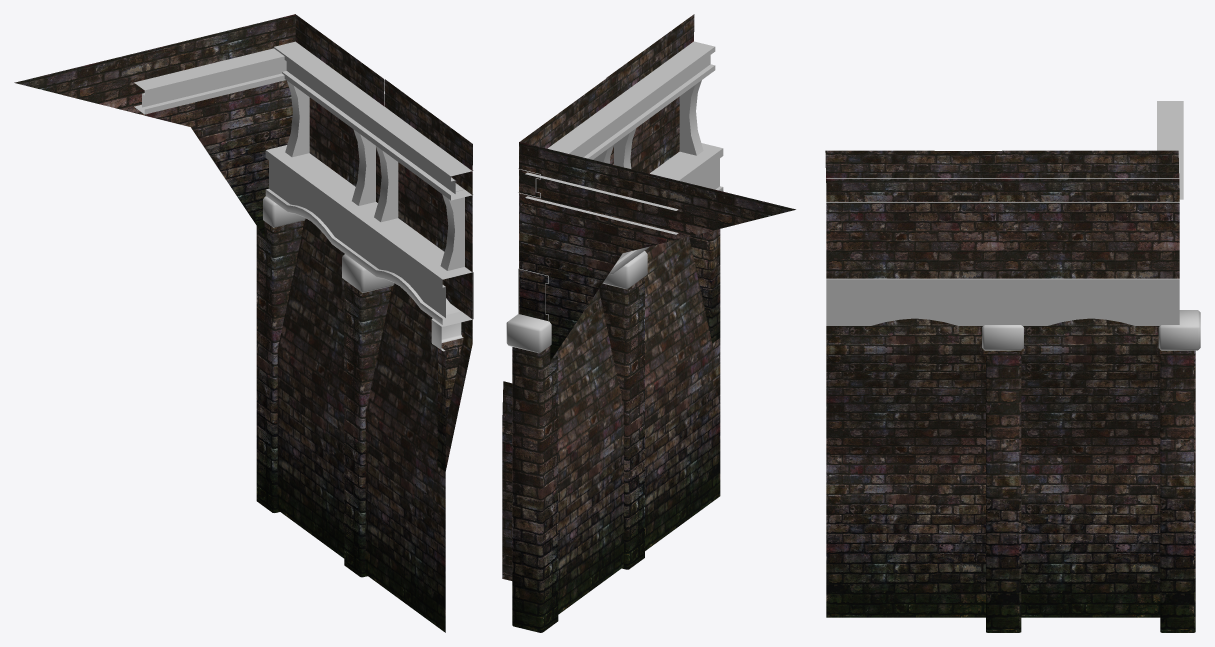
The model's file is sewer_stairs_wall_01.DAE.
3 renders of one model, left to right at view 1: azimuth 30°, elevation 25°; view 2: azimuth 150°, elevation 25°; view 3: azimuth 270°, elevation 25°, orthographic.
Visible parts, largest first — view 1: sewer_stairs_wall_high_01, sewer_stairs_wall_high_support_01; view 2: sewer_stairs_wall_high_01, sewer_stairs_wall_high_support_01; view 3: sewer_stairs_wall_high_01, sewer_stairs_wall_high_support_01.
Part boxes in pixels (<box>): sewer_stairs_wall_high_01: <box>14,14,472,632</box>; sewer_stairs_wall_high_support_01: <box>134,41,473,351</box>; sewer_stairs_wall_high_01: <box>502,14,795,632</box>; sewer_stairs_wall_high_support_01: <box>506,41,723,353</box>; sewer_stairs_wall_high_01: <box>825,150,1195,632</box>; sewer_stairs_wall_high_support_01: <box>826,101,1200,350</box>.
Size of the model in its own units: 3.88 by 4.25 by 6.03.
